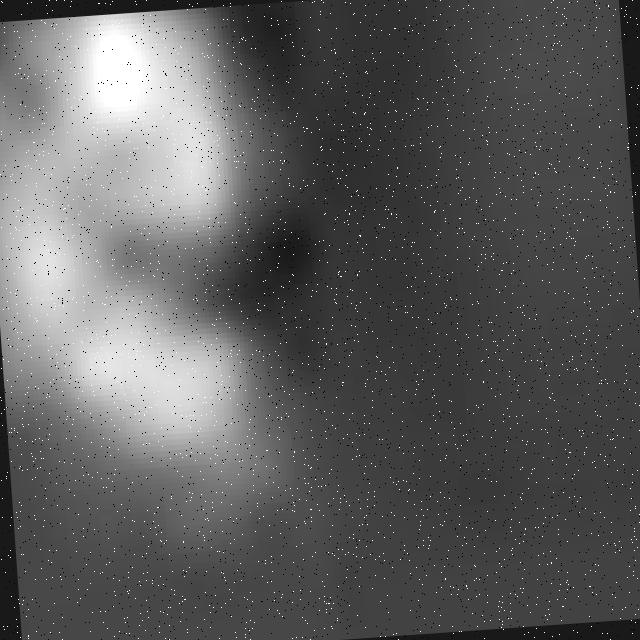person: (1, 2, 322, 532)
